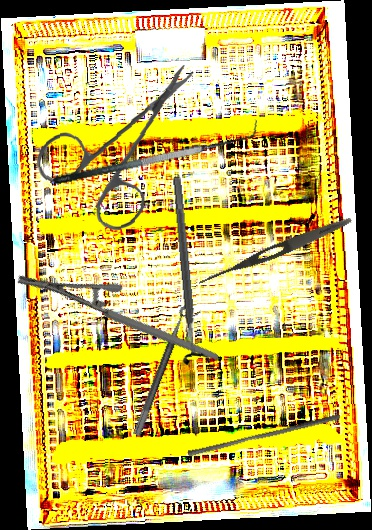Dressing Forceps: (194, 212, 355, 292)
Fixation Ring: (132, 302, 202, 441), (162, 175, 212, 366)
Iris Scissors: (31, 64, 205, 235)
Needle Holder: (14, 222, 220, 415)
Pusher: (187, 407, 341, 463)
Spatula Surgical: (49, 119, 262, 187)
